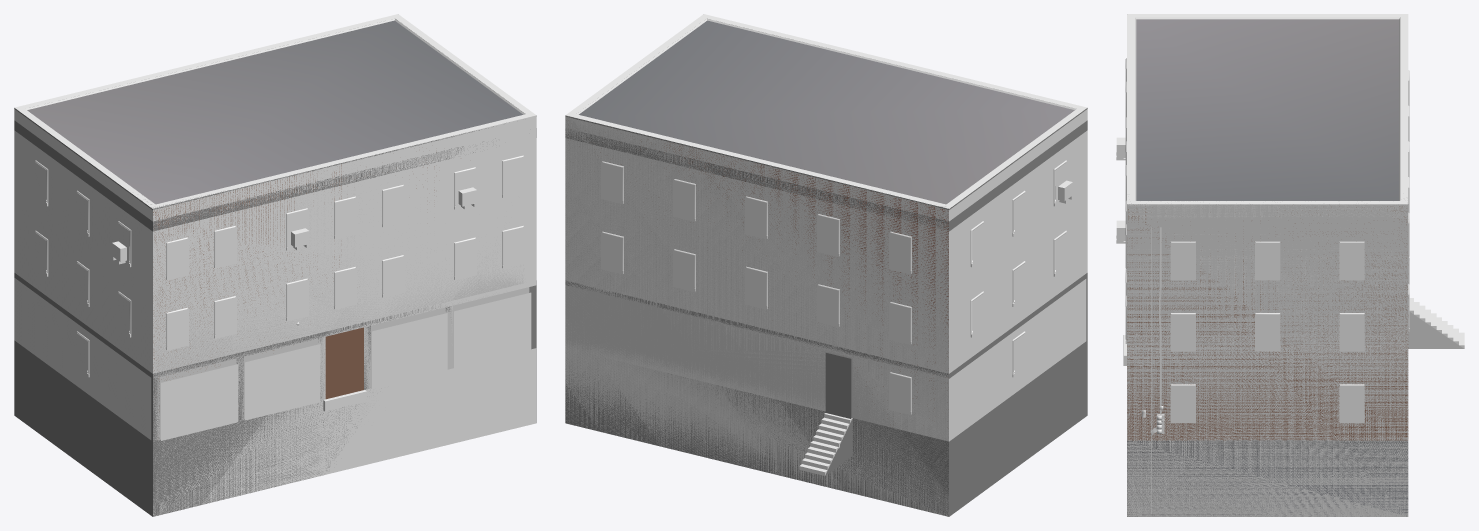
File: eca_bld_shop_town_f.dae
3 renders of one model, left to right at view 1: azimuth 30°, elevation 25°; view 2: azimuth 150°, elevation 25°; view 3: azimuth 270°, elevation 25°, orthographic.
Visible parts, largest first — view 1: eca_bld_shop_town_f_a200, eca_bld_shop_town_f_a550, eca_bld_shop_town_f_a15, Colmesh_eca_bld_shop_town_f-1; view 2: eca_bld_shop_town_f_a200, Colmesh_eca_bld_shop_town_f-1, eca_bld_shop_town_f_a15, eca_bld_shop_town_f_a550; view 3: Colmesh_eca_bld_shop_town_f-1, eca_bld_shop_town_f_a15, eca_bld_shop_town_f_a550, eca_bld_shop_town_f_a200.
Part boxes in pixels (bbox=[...]): eca_bld_shop_town_f_a200: bbox=[14, 108, 536, 516]; eca_bld_shop_town_f_a550: bbox=[15, 14, 536, 516]; eca_bld_shop_town_f_a15: bbox=[27, 20, 522, 513]; Colmesh_eca_bld_shop_town_f-1: bbox=[25, 18, 529, 515]; eca_bld_shop_town_f_a200: bbox=[565, 108, 1087, 516]; Colmesh_eca_bld_shop_town_f-1: bbox=[565, 18, 1076, 516]; eca_bld_shop_town_f_a15: bbox=[566, 20, 1074, 515]; eca_bld_shop_town_f_a550: bbox=[565, 14, 1086, 515]; Colmesh_eca_bld_shop_town_f-1: bbox=[1127, 17, 1463, 516]; eca_bld_shop_town_f_a15: bbox=[1127, 19, 1408, 516]; eca_bld_shop_town_f_a550: bbox=[1116, 14, 1464, 516]; eca_bld_shop_town_f_a200: bbox=[1131, 203, 1364, 422].
Size of the model in its own units: 16.53 by 12.38 by 12.27.
